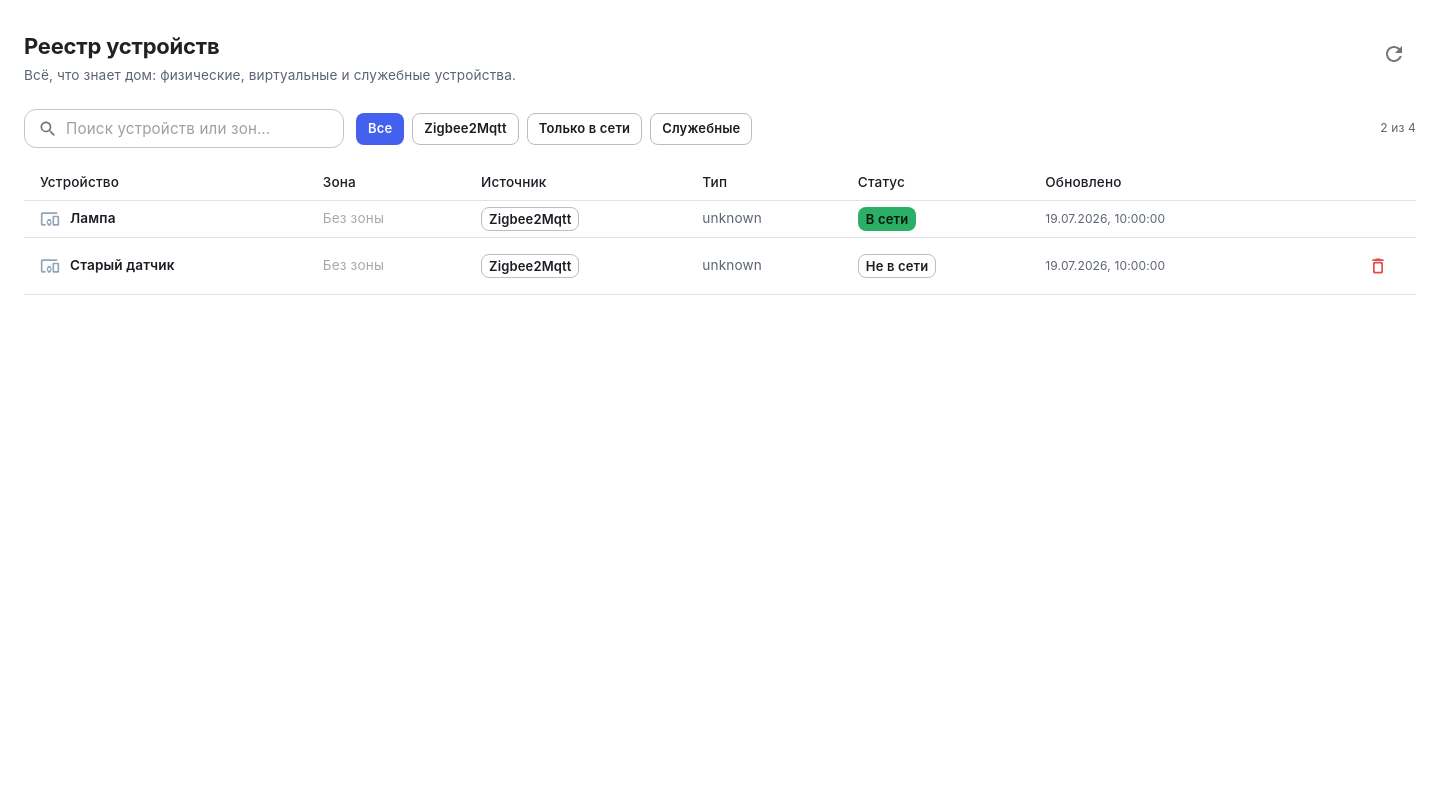
it: DeviceRegistry (/devices) › deletes an offline device after confirmation and refreshes the list
Expected: the text "Старый датчик" is shown, [70,256,175,276]
Click the button named "Удалить Старый датчик" at coordinates (1378, 266), box [1356,244,1400,288]
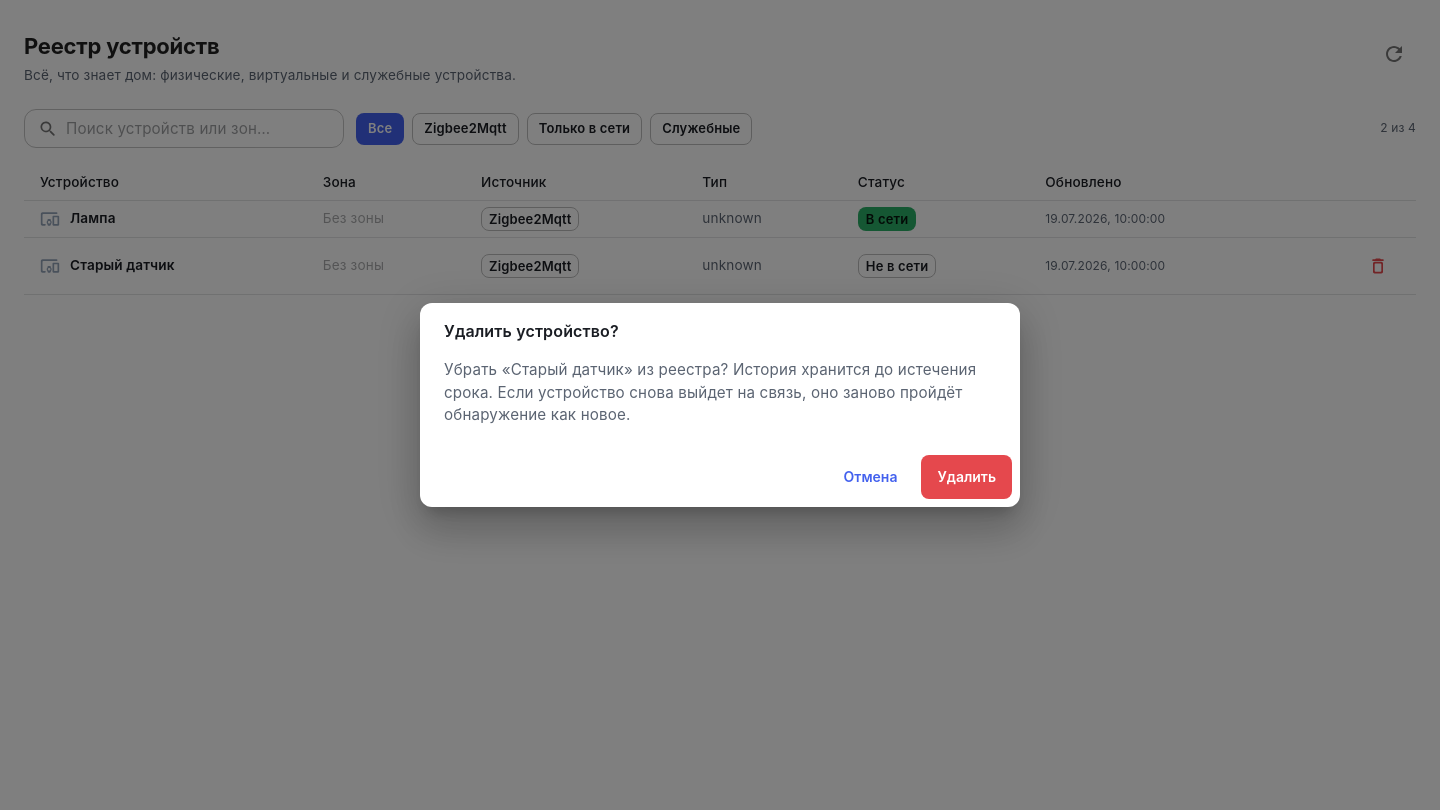
Result: the heading "Удалить устройство?" is shown at [444,321,619,341]
Click the button "Удалить" at coordinates (967, 477), box [921,455,1012,499]
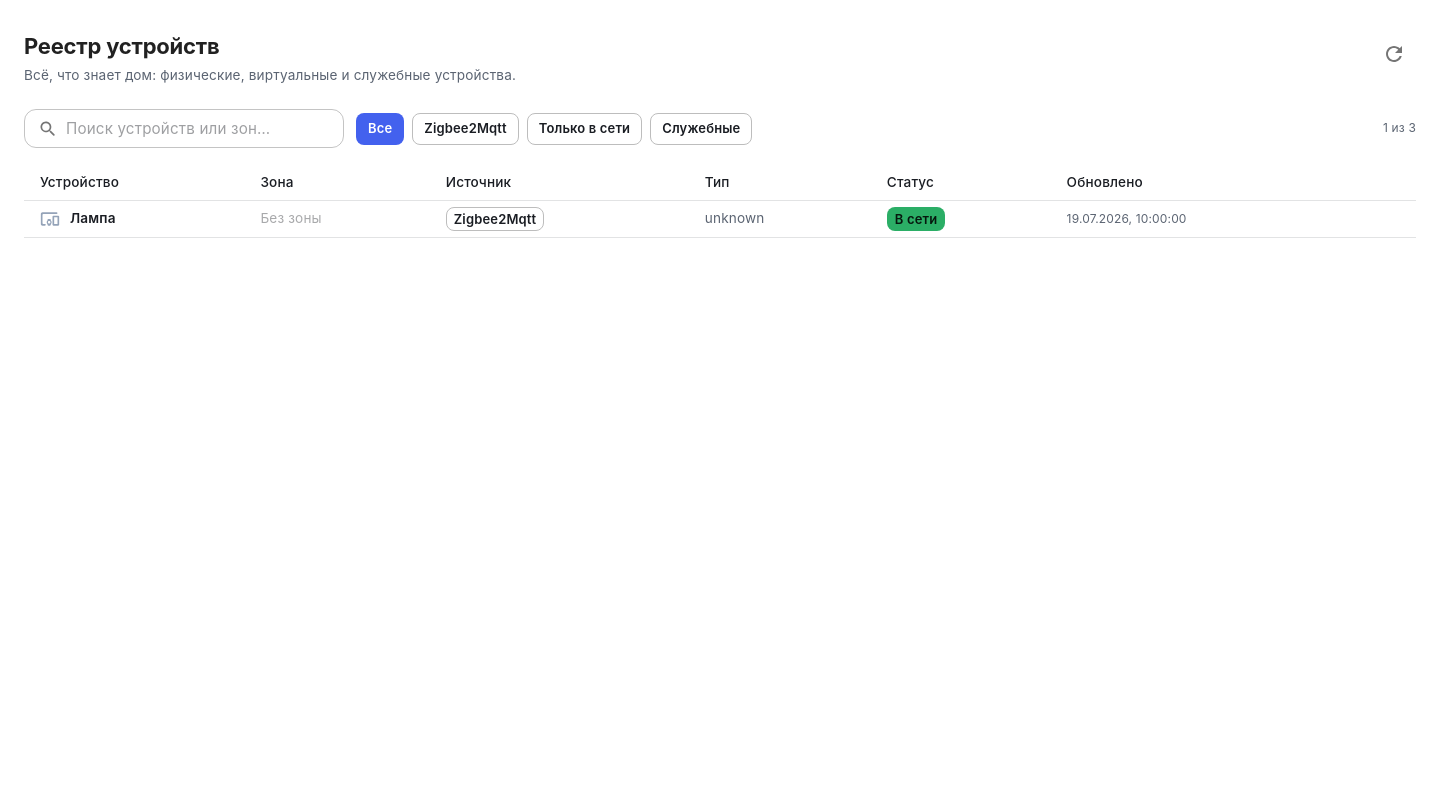
Expected: the text "Лампа" is shown, [70,209,116,229]
Result: the text "Старый датчик" is gone
